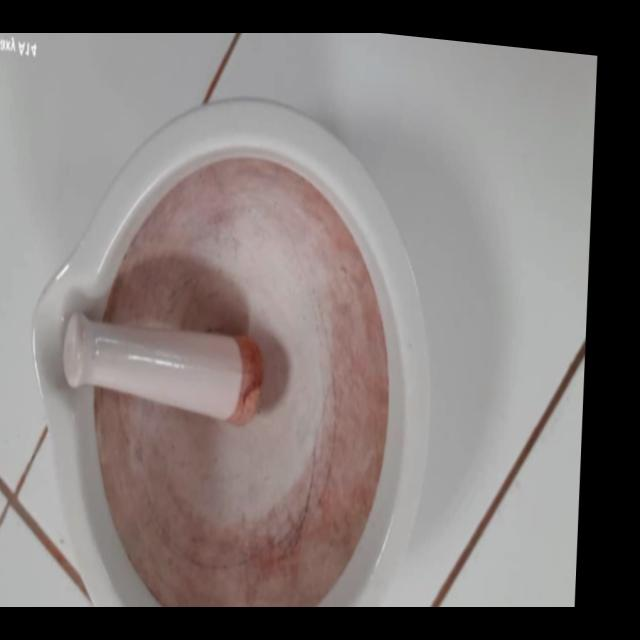Mortar and Pestle: (19, 76, 448, 607)
